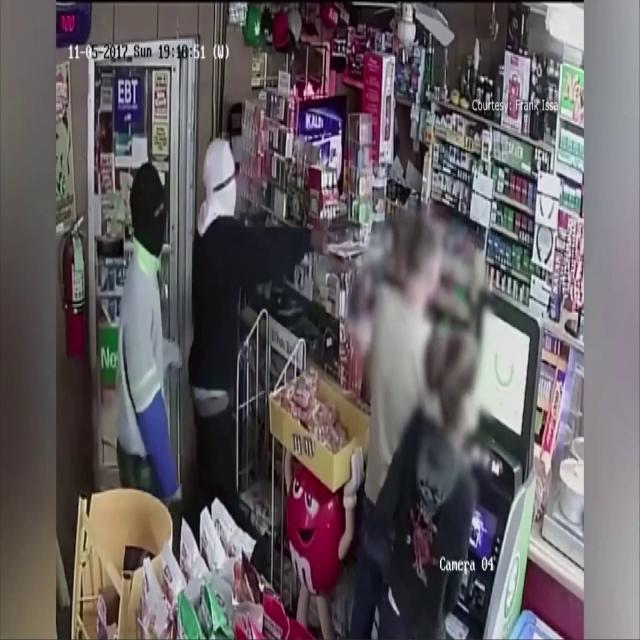Gun: (318, 214, 364, 257)
